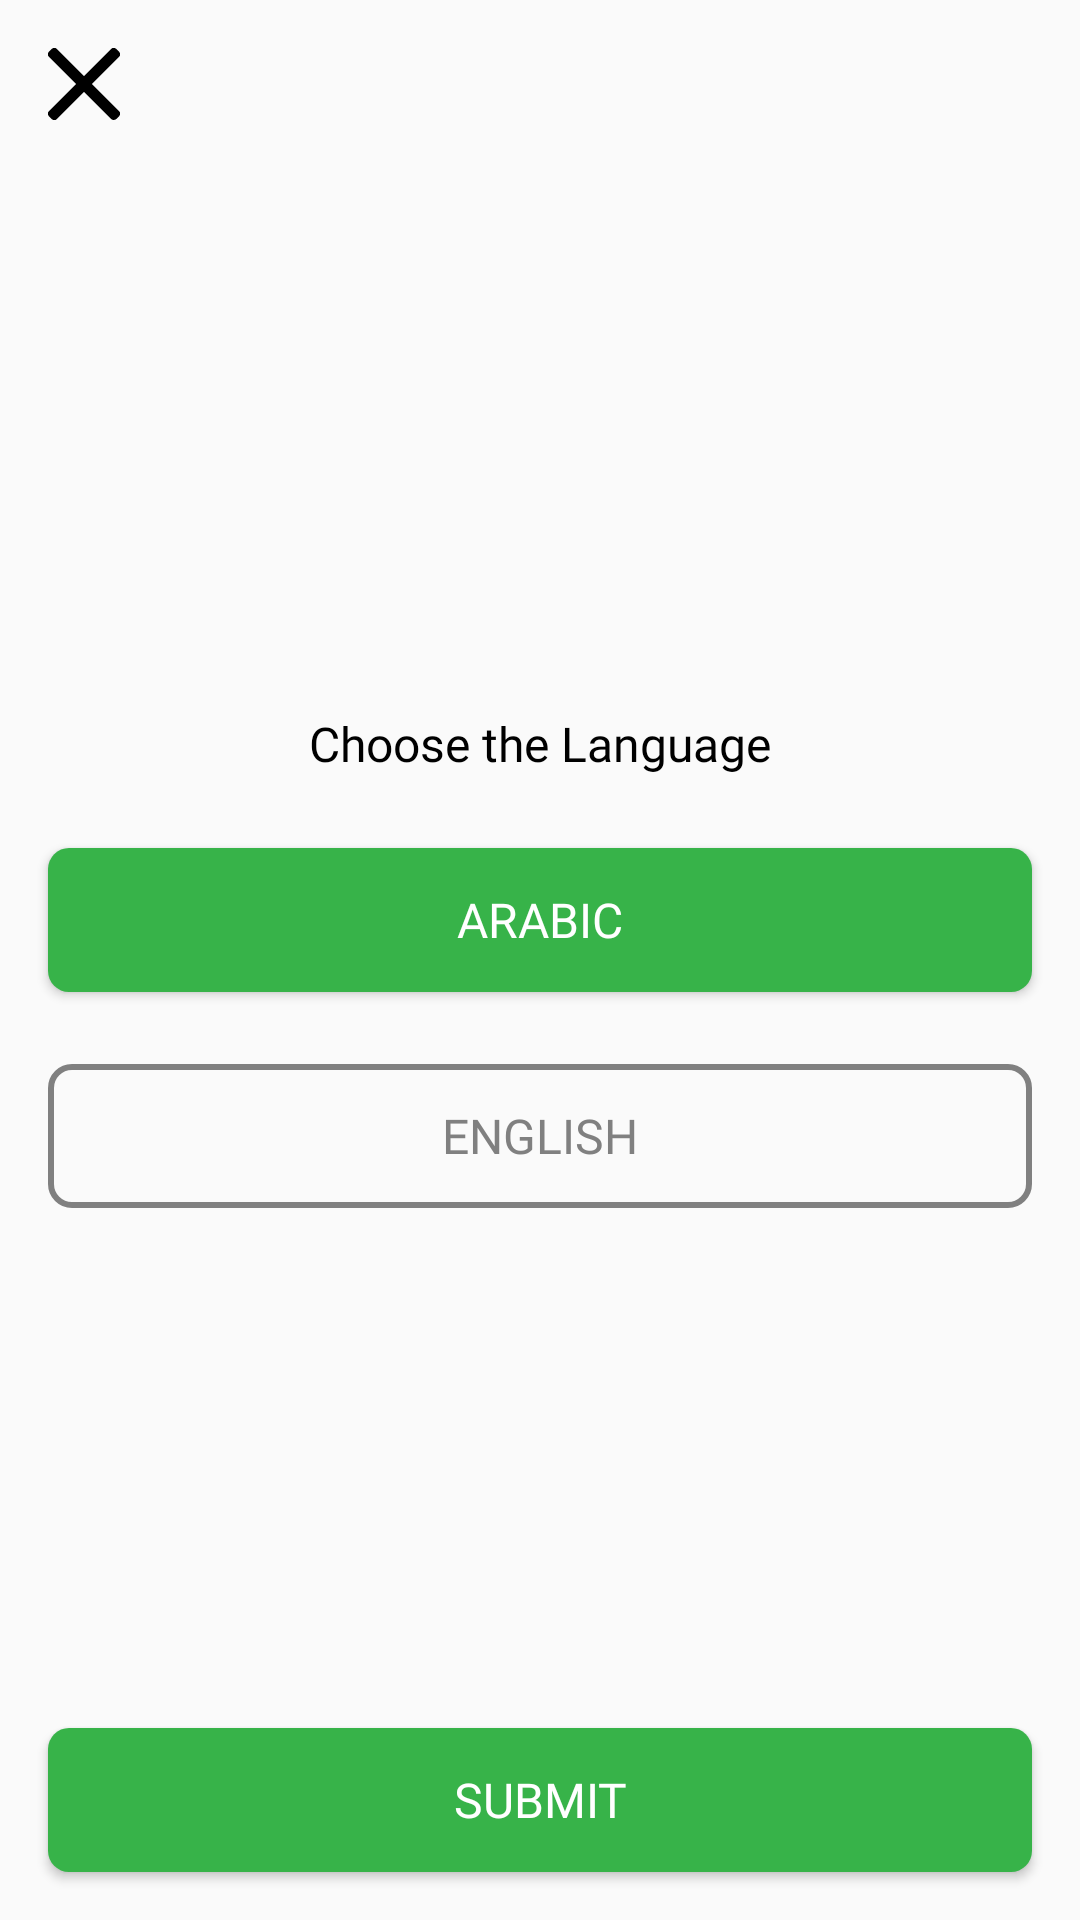

Icon bounding boxes for this 1080x1920 phone screenshot, format (x1, y1, x2, y2):
cancel: (48, 48, 120, 120)
